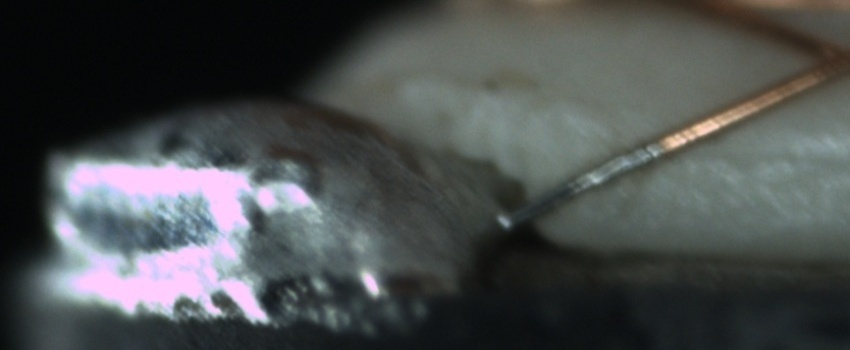CL: (778, 25, 849, 94)
DL: (686, 122, 850, 186)
TS: (501, 141, 666, 235)
